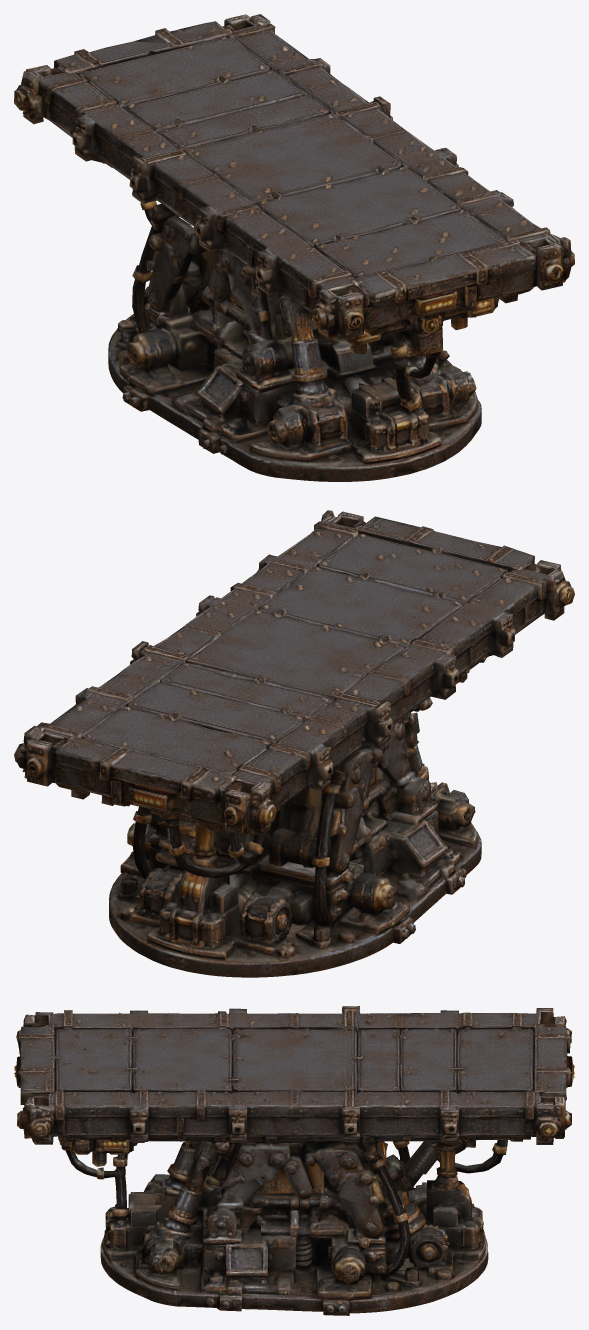
File: raw_table.glb
3 views of the same model, one above another, from view 1: azimuth 30°, elevation 25°; view 2: azimuth 150°, elevation 25°; view 3: azimuth 270°, elevation 25° (orthographic). The views are drawn at different scales.
Parts seen in each view (by area): view 1: tripo_node_96cf8e07-bfde-41e1-92ef-f1f049d77a54; view 2: tripo_node_96cf8e07-bfde-41e1-92ef-f1f049d77a54; view 3: tripo_node_96cf8e07-bfde-41e1-92ef-f1f049d77a54.
Part boxes in pixels (x1,y1,x2,y2): tripo_node_96cf8e07-bfde-41e1-92ef-f1f049d77a54: (14,14,574,481); tripo_node_96cf8e07-bfde-41e1-92ef-f1f049d77a54: (14,510,574,977); tripo_node_96cf8e07-bfde-41e1-92ef-f1f049d77a54: (14,1006,574,1315).
Size of the model in its own units: 0.4943 by 0.3999 by 1.
Materials: 1 (1 with a texture image).
